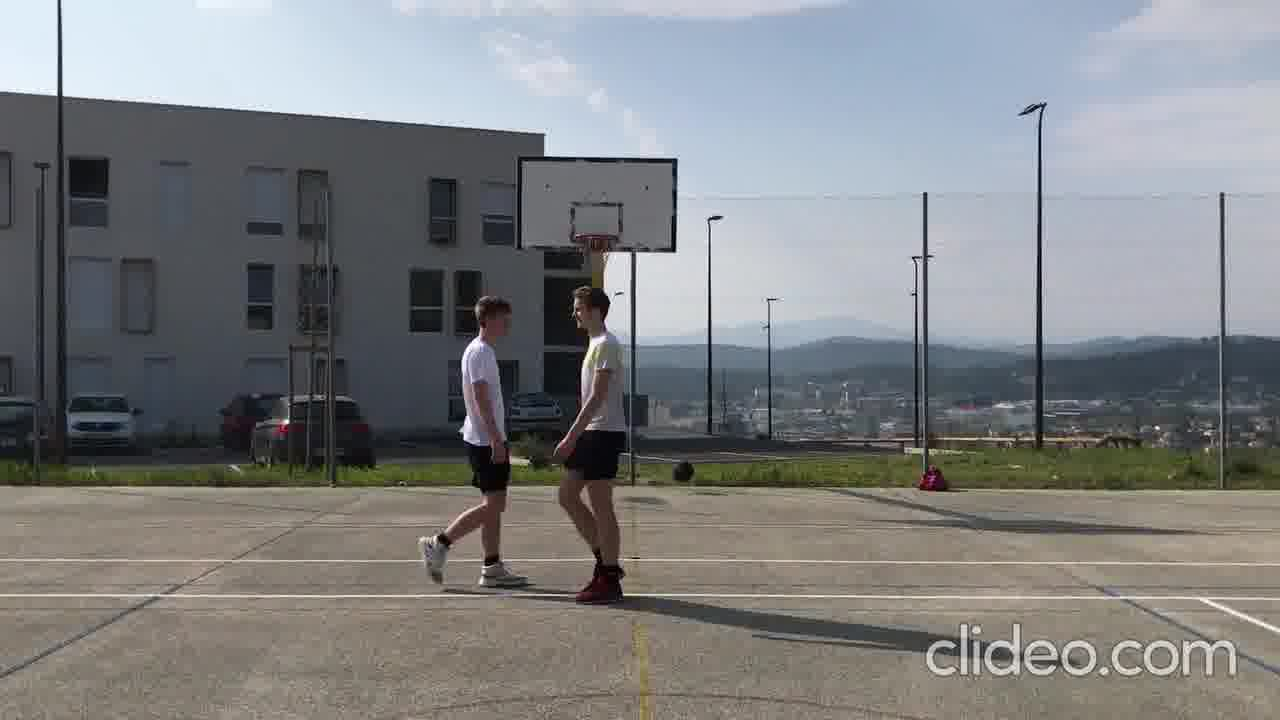jugador: (538, 277, 637, 614)
